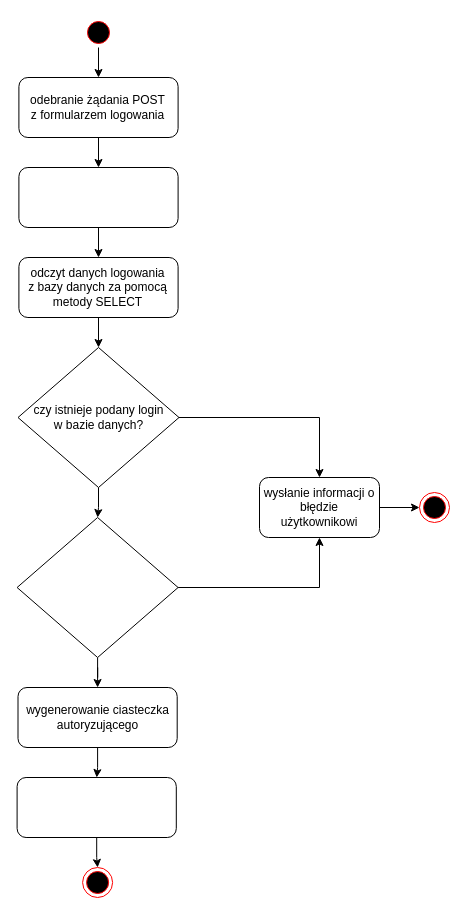
Some shapes in this 468 by 915 pixel diagram are drawn without their labels. Each missing label, with the centre of its shape:
"hashowanie hasła odebranego z żądania HTTP" goes at (98,197).
"przysłany hash == hash w bazie danych" goes at (97,587).
"wysłanie ciasteczka w odpowiedzi na żądanie użytkownikowi" goes at (96,807).
